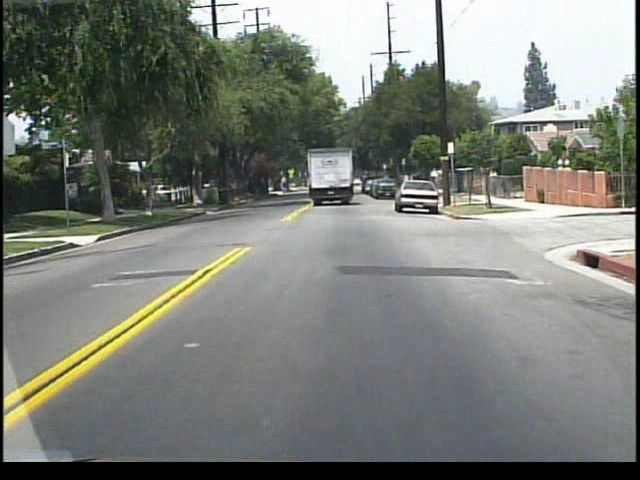person: (485, 166, 499, 198)
